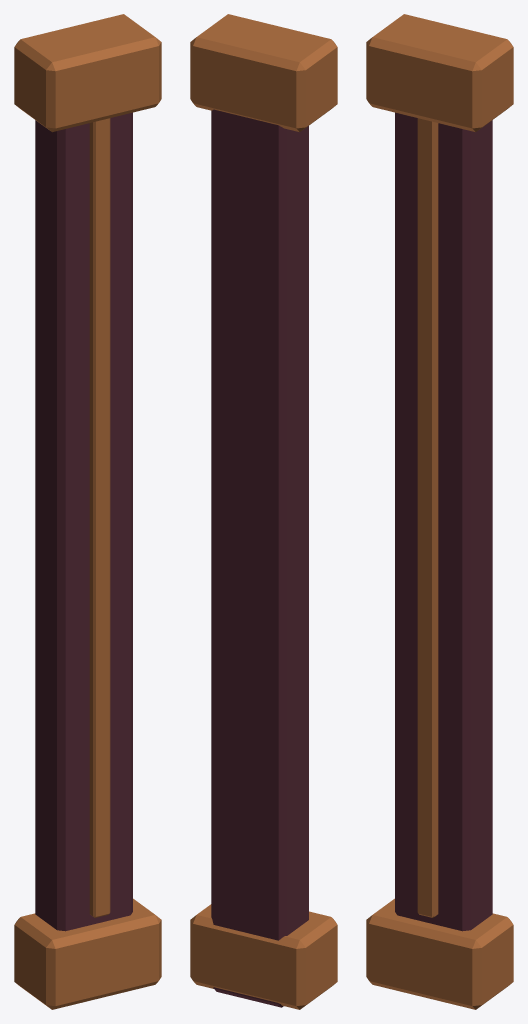
File: pilaster.glb
The picture shows the model from 3 angles, left to right: view 1: azimuth 30°, elevation 25°; view 2: azimuth 150°, elevation 25°; view 3: azimuth 330°, elevation 25°; orthographic projection.
Visible parts, largest first — view 1: Pilastra, Friso, Arremate.001, Arremate; view 2: Pilastra, Arremate.001, Arremate; view 3: Pilastra, Friso, Arremate.001, Arremate.
Part boxes in pixels (x1,y1,x2,y2): Pilastra: [35, 112, 132, 931]; Friso: [89, 118, 110, 917]; Arremate.001: [14, 14, 161, 132]; Arremate: [14, 898, 161, 1009]; Pilastra: [211, 109, 308, 1007]; Arremate.001: [190, 14, 337, 132]; Arremate: [190, 904, 337, 1009]; Pilastra: [395, 112, 492, 931]; Friso: [417, 118, 438, 917]; Arremate.001: [366, 14, 513, 132]; Arremate: [366, 898, 513, 1009].
Bounding box in the file's own units: 0.38 × 2.99 × 0.22.
